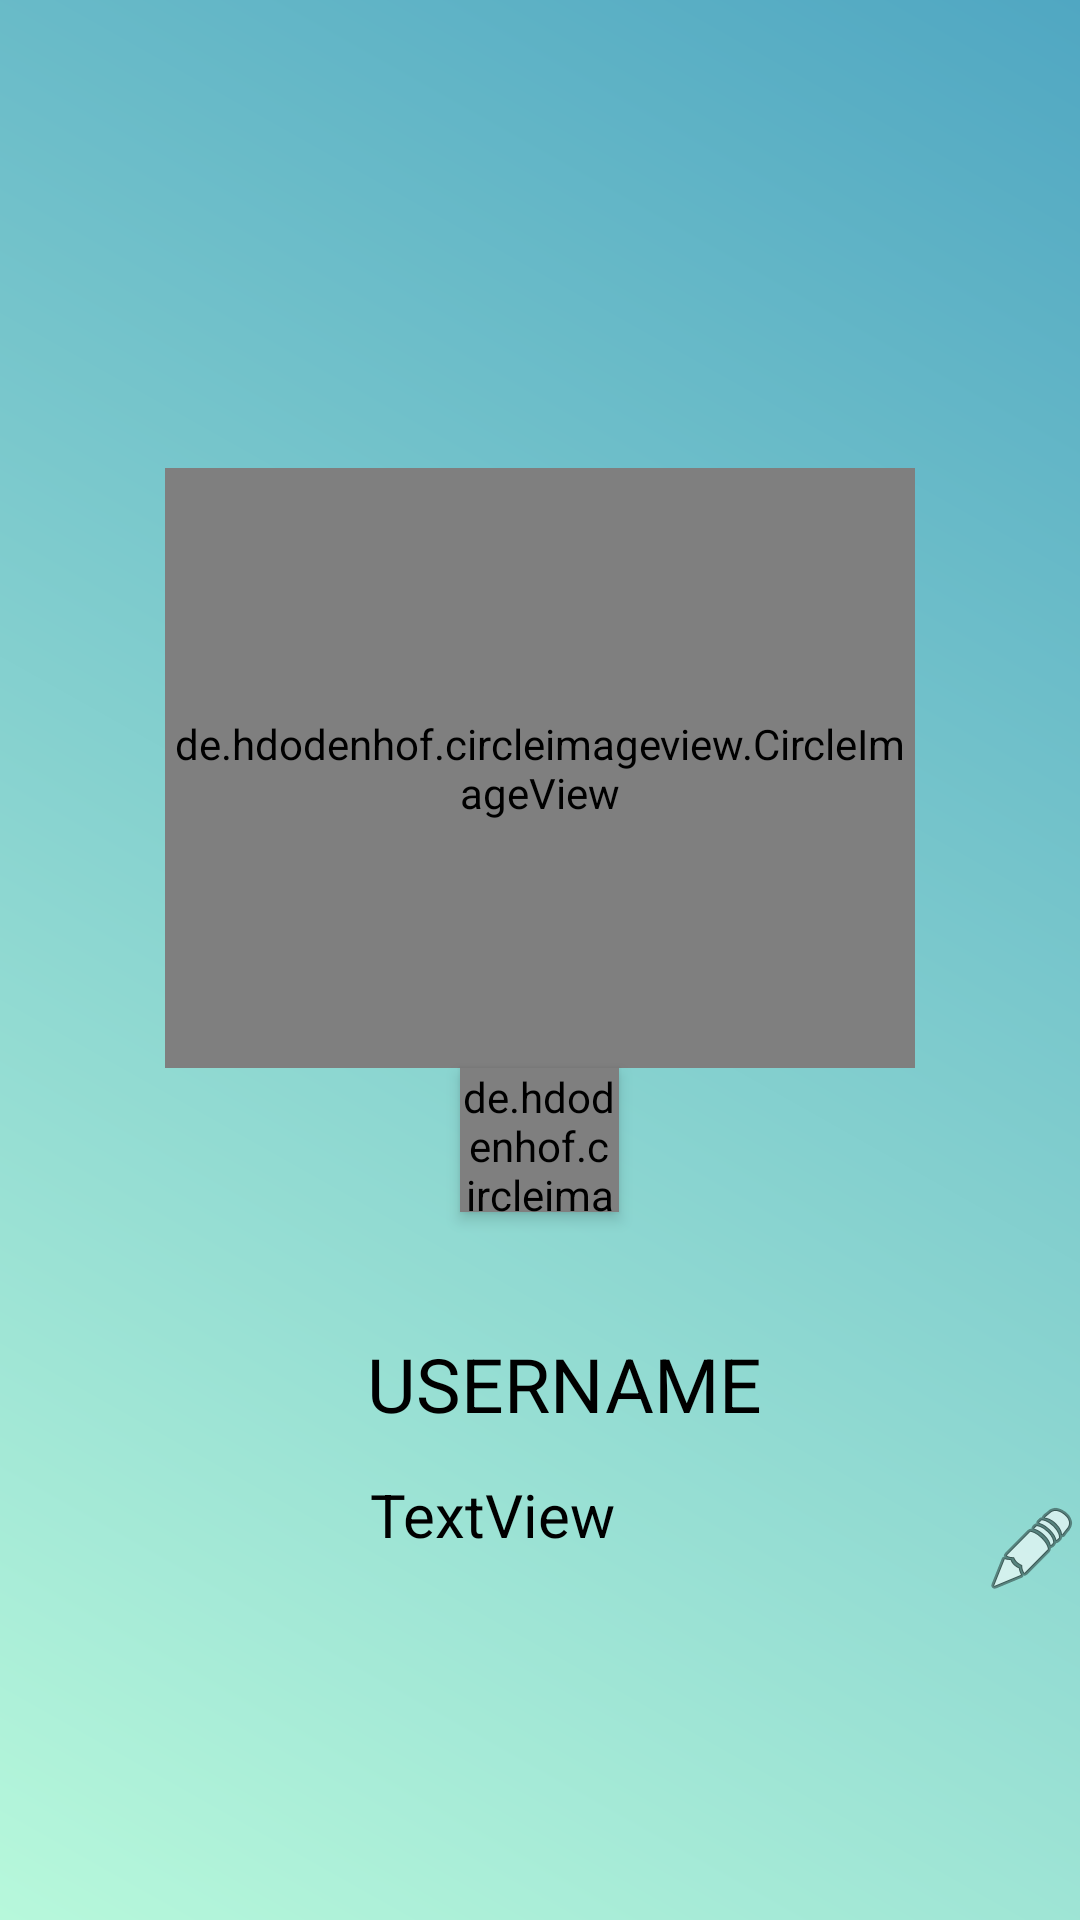

Icons on this 1080 x 1920 Android screen, each with the point to tap as (x,y):
edit: (1031,1548)
